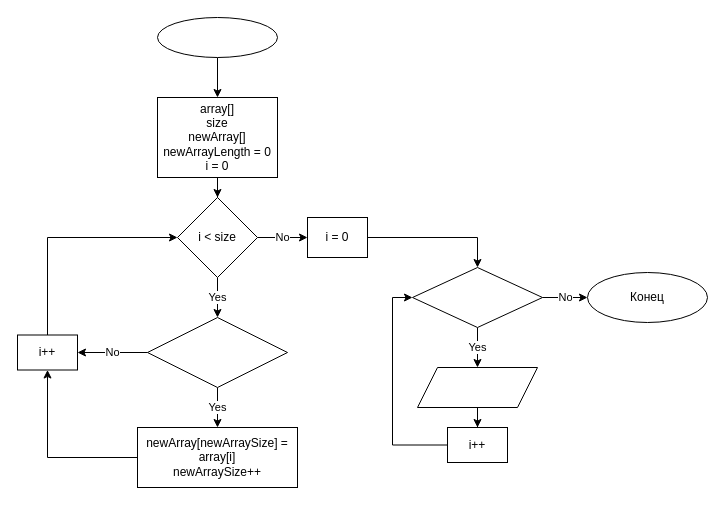
The diagram is 725 pixels wide and 505 high, and some of its shapes have lost their labels. The shapes that lost their labels are listed below. From the top down, each one's centre as x and y in pixels, then its label:
At [217,37]: "Начало".
At [477,297]: "i < newArraySize".
At [217,352]: "array[i].Length < 4".
At [477,387]: "newArray[i]".
